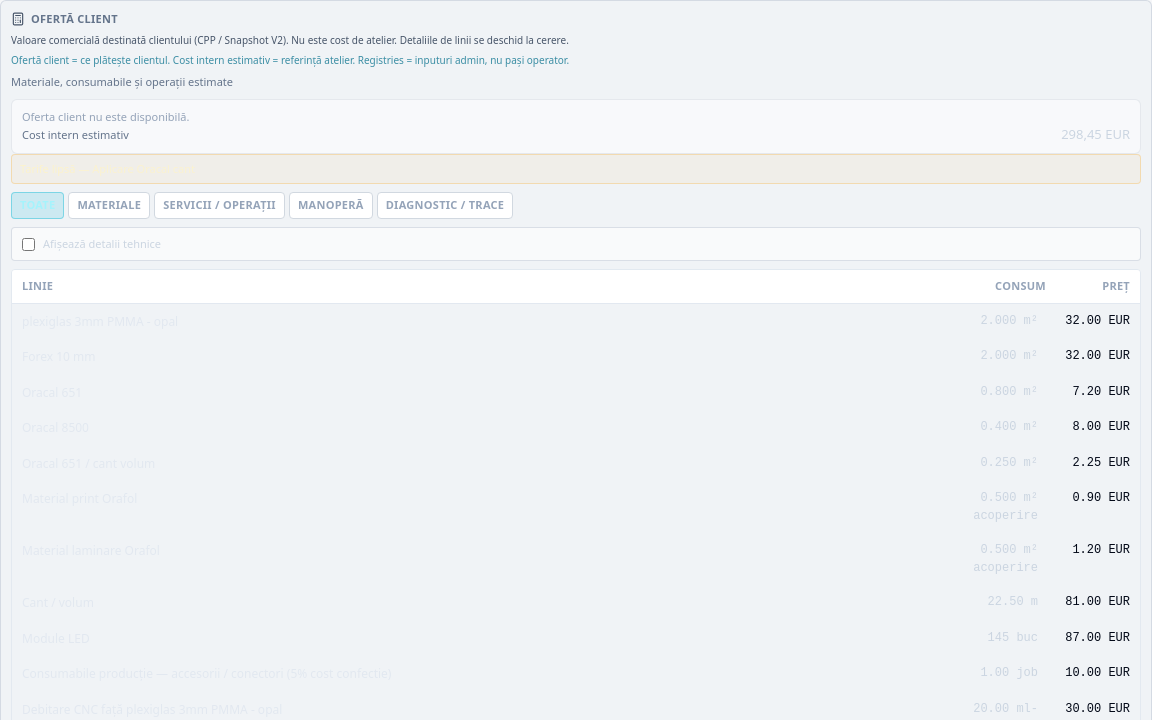
IntakeV6LiveCalculationSummary › shows filter subtotal footer when a category filter is active
The image size is (1152, 720).
Step 1. Click the button with test id "intake-v6-live-filter-services_operations" → (220, 206), box x1=154 y1=192 x2=285 y2=219
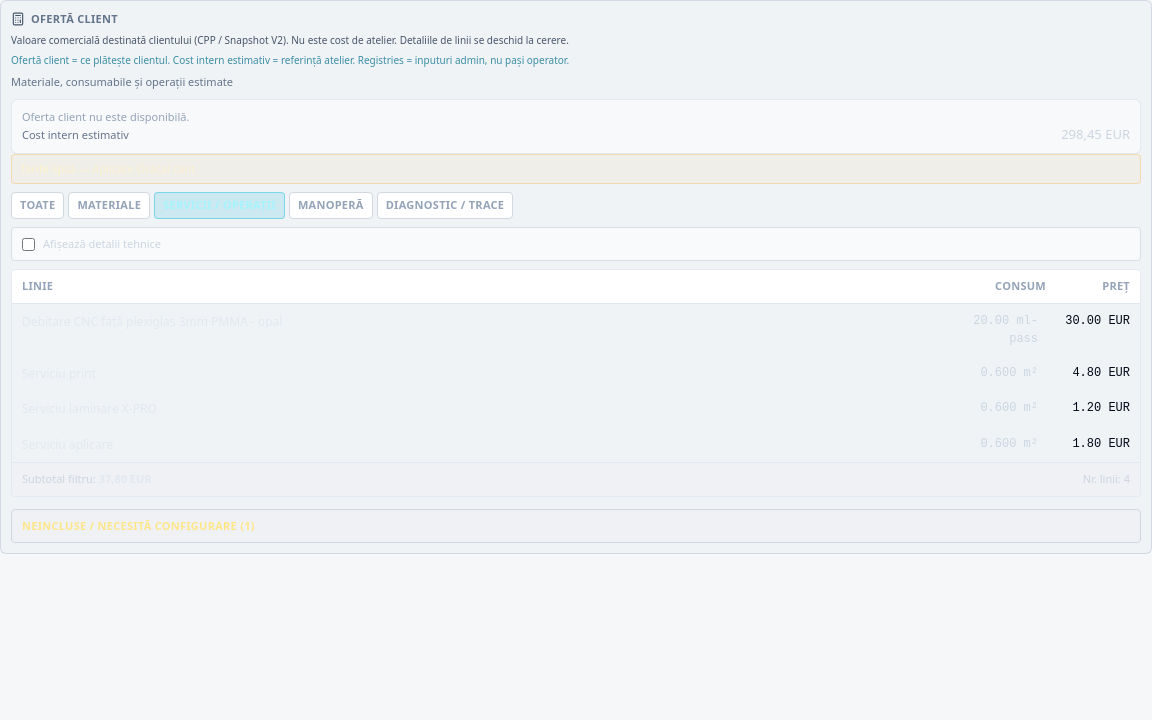
Expected: the element with test id "intake-v6-live-filter-subtotal" shows "Subtotal filtru:", x1=22 y1=471 x2=96 y2=486
Expected: the text with test id "intake-v6-live-filter-line-count" reads "Nr. linii: 4", x1=1083 y1=471 x2=1130 y2=488
